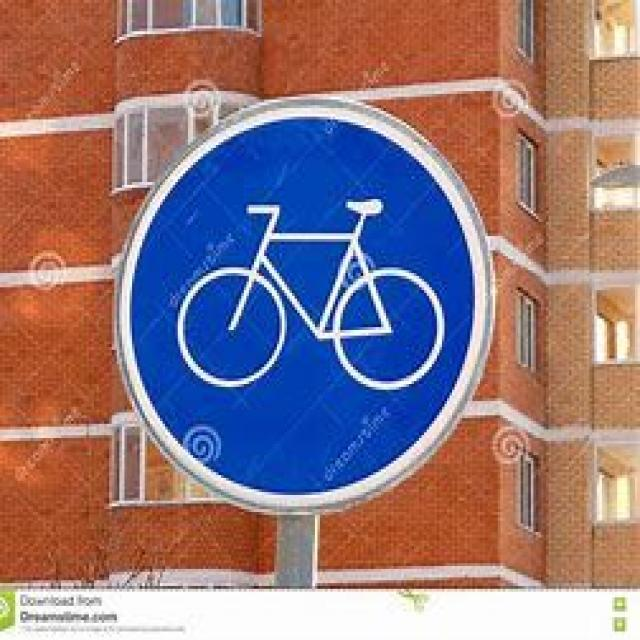COMPULSARY_CYCLE_TRACK: (109, 88, 493, 515)
